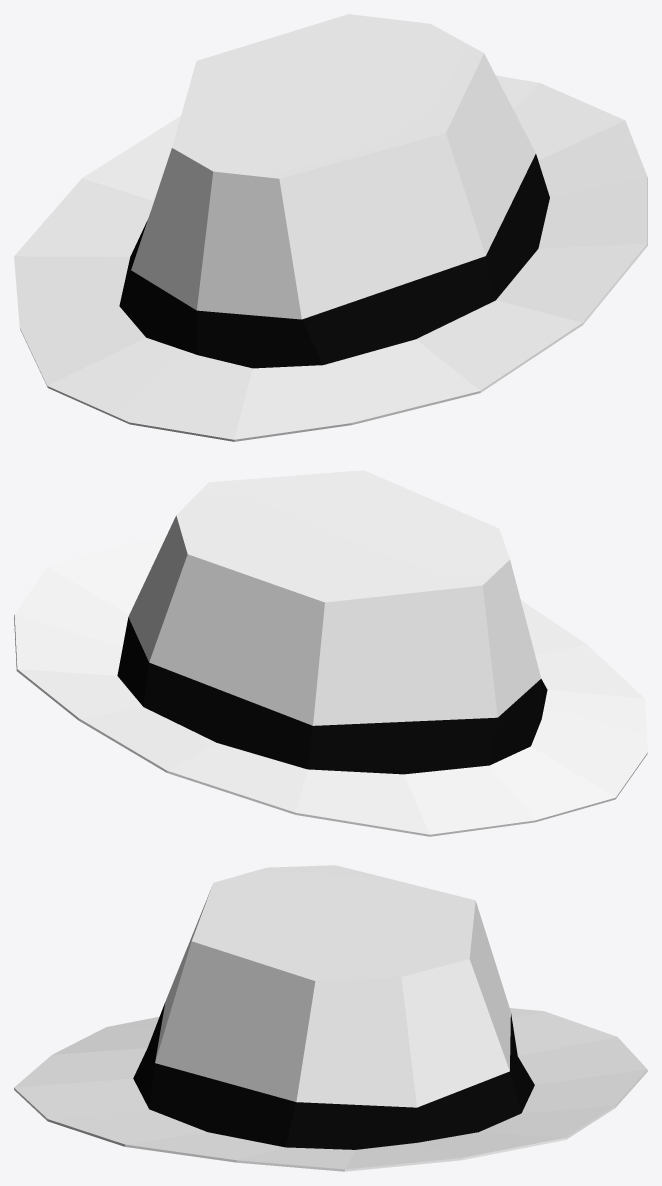
Rendered from Hd1RK9xidpRu.glb.
3 views of the same model, one above another, from view 1: azimuth 30°, elevation 25°; view 2: azimuth 150°, elevation 25°; view 3: azimuth 270°, elevation 25° (orthographic). The views are drawn at different scales.
Parts seen in each view (by area): view 1: Cube; view 2: Cube; view 3: Cube.
Boxes of the visible parts, bbox=[...] form: Cube: bbox=[14, 14, 647, 441]; Cube: bbox=[14, 470, 647, 836]; Cube: bbox=[14, 865, 647, 1171].
Bounding box in the file's own units: 3.19 × 1.19 × 3.03.
1 material, 1 textured.
